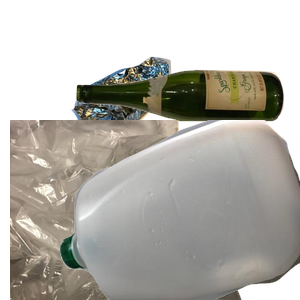glass: (74, 67, 300, 181)
metal: (61, 54, 225, 202)
plastic: (60, 120, 300, 300)
trash: (10, 120, 244, 300)
